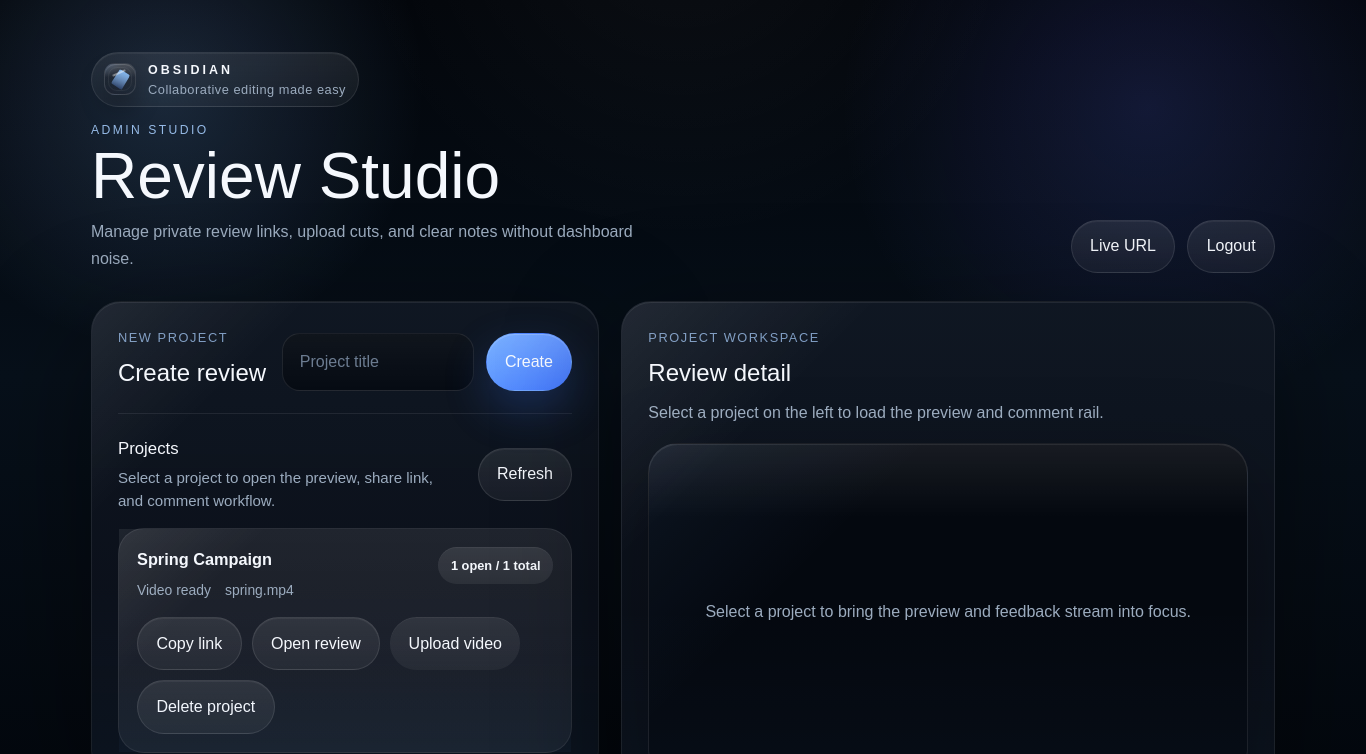
Test case: AdminApp › shows an inline error message when copying the share link fails
Expected: the heading "Projects" is shown, [118, 439, 179, 458]
Click the button "Copy link" at (189, 644), box [137, 617, 242, 670]
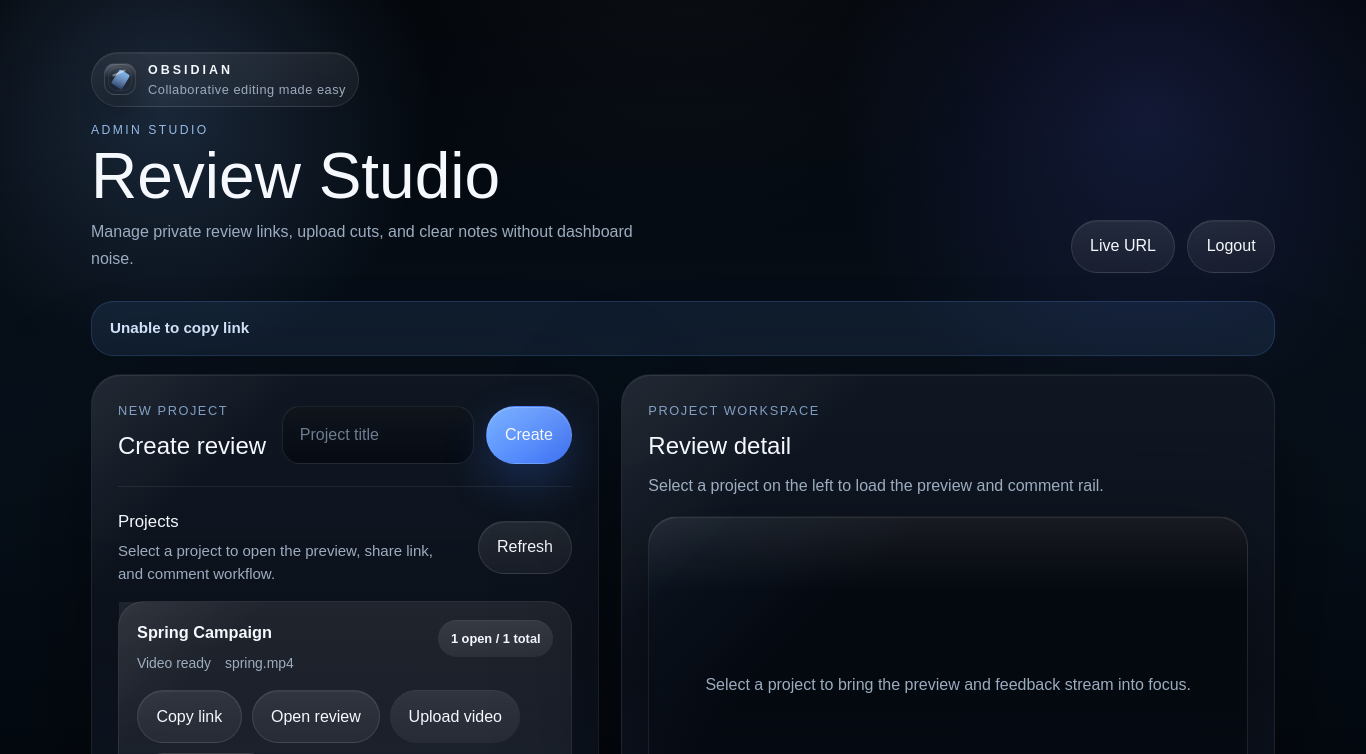
Now the text "Unable to copy link" is shown, box [91, 301, 1275, 356]
